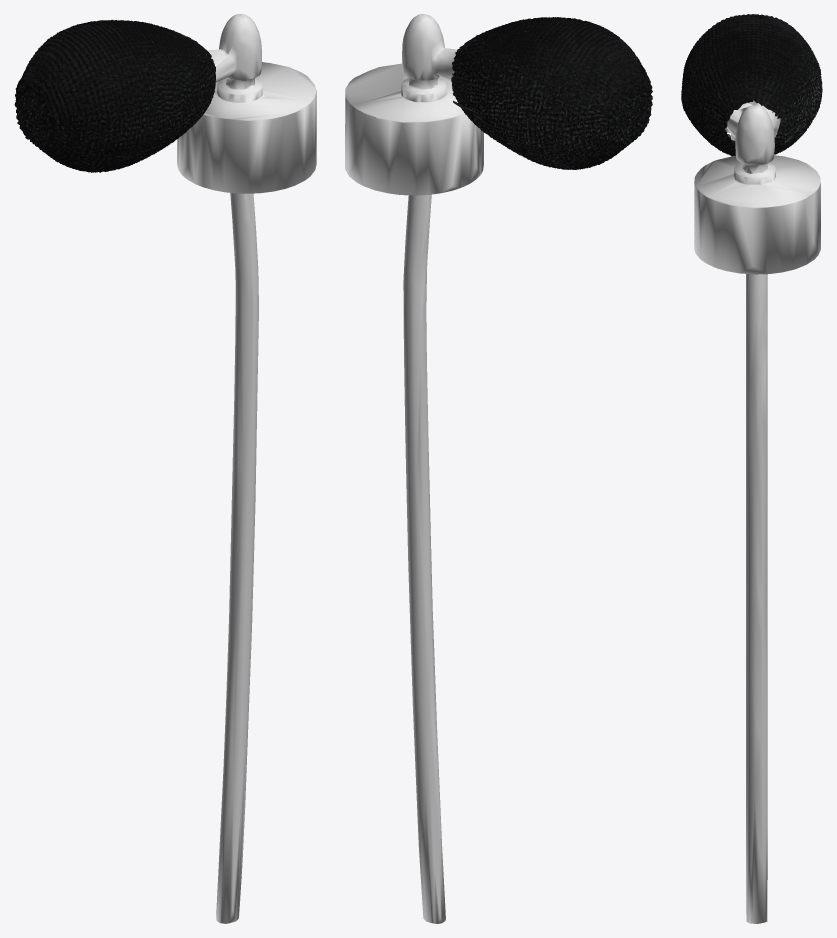
Rendered from BB_ANSP_ASSEMBLY_18415.glb.
The picture shows the model from 3 angles, left to right: view 1: azimuth 30°, elevation 25°; view 2: azimuth 150°, elevation 25°; view 3: azimuth 270°, elevation 25°; orthographic projection. The views are drawn at different scales.
Parts seen in each view (by area): view 1: ANSP_ASSEMBLY; view 2: ANSP_ASSEMBLY; view 3: ANSP_ASSEMBLY.
Boxes of the visible parts, x1,y1,x2,y2 form: ANSP_ASSEMBLY: [14, 14, 316, 923]; ANSP_ASSEMBLY: [345, 14, 652, 923]; ANSP_ASSEMBLY: [681, 14, 822, 923].
Size of the model in its own units: 0.0525 by 0.1655 by 0.0252.
Materials: 3 (1 with a texture image).
